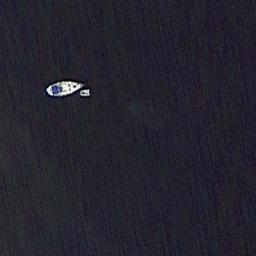boat: (45, 76, 86, 98), (78, 89, 90, 98)
